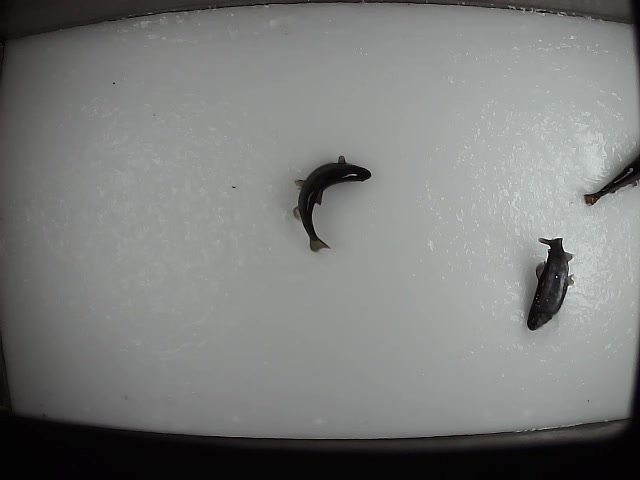Fish: (294, 156, 372, 252), (525, 237, 575, 331)
